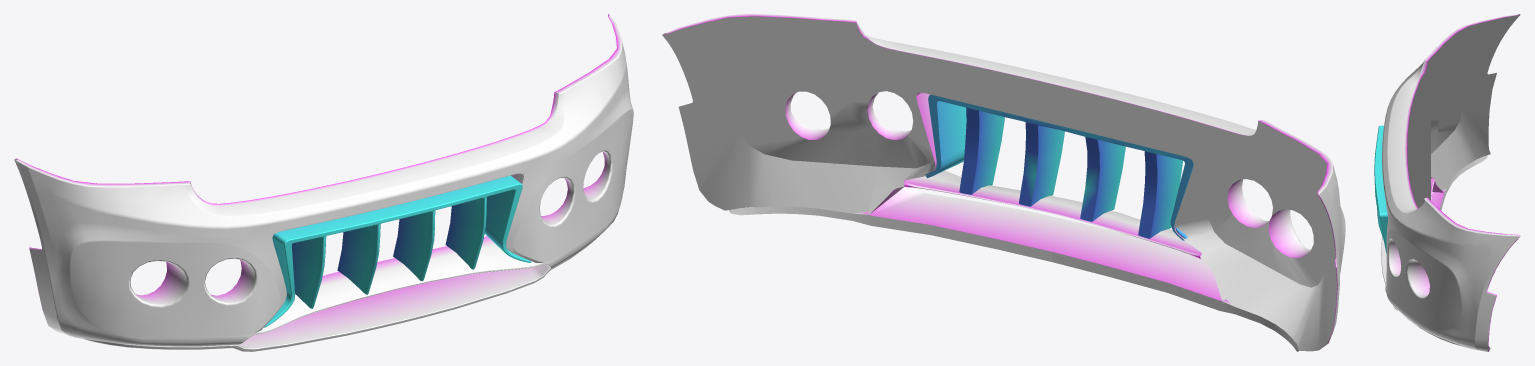
File: Car_Mini_CountrymanJCW_2017_BumperF_SetC.fbx
3 views of the same model, side by side, from view 1: azimuth 30°, elevation 25°; view 2: azimuth 150°, elevation 25°; view 3: azimuth 270°, elevation 25° (orthographic). The views are drawn at different scales.
Visible parts, largest first — view 1: BumperF 6; view 2: BumperF 6; view 3: BumperF 6.
Part boxes in pixels (left/top/right/bottom): BumperF 6: left=14, top=14, right=633, bottom=351; BumperF 6: left=662, top=14, right=1345, bottom=351; BumperF 6: left=1374, top=14, right=1520, bottom=351.
Size of the model in its own units: 1.75 by 0.4959 by 0.4863.
